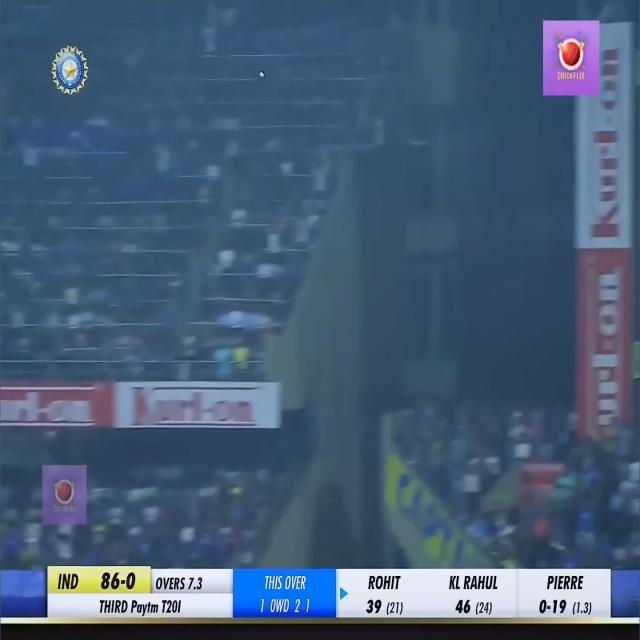fully_visible: (129, 589, 162, 621)
